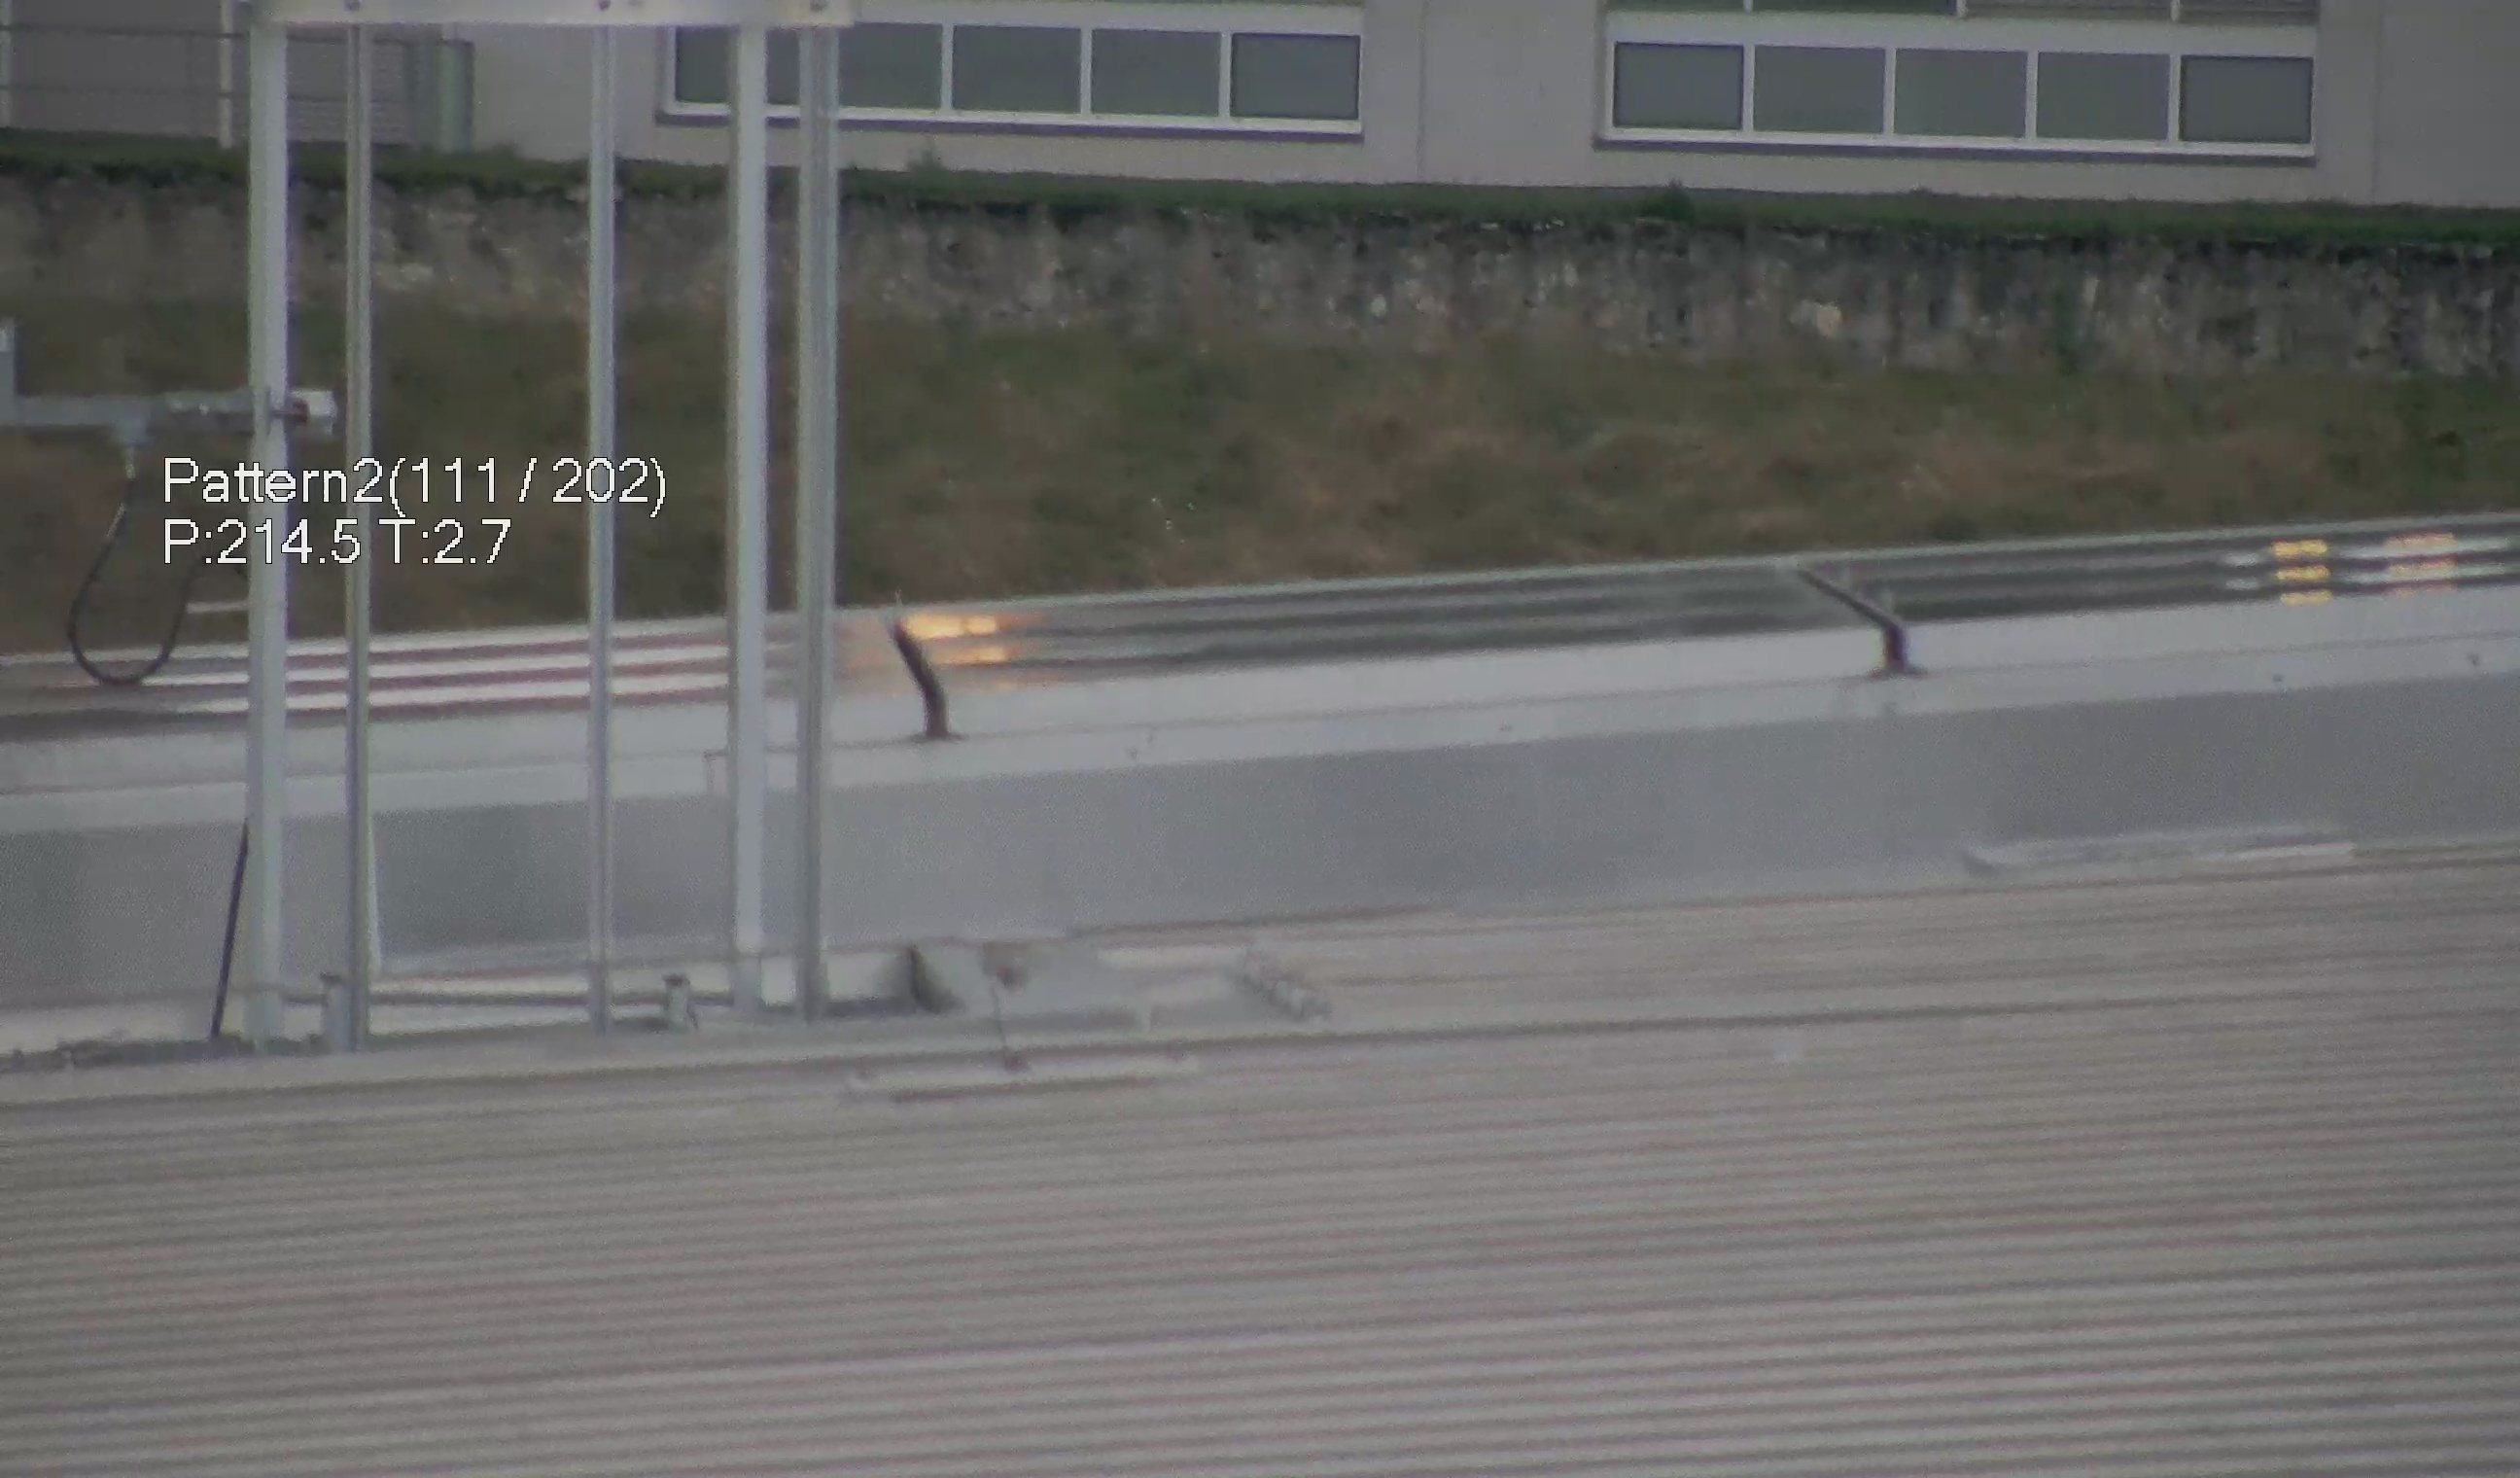Other: (879, 605, 967, 750)
